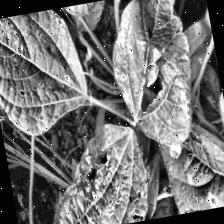ALS: (101, 0, 207, 155), (0, 6, 91, 140), (29, 127, 153, 224), (150, 113, 224, 216)
